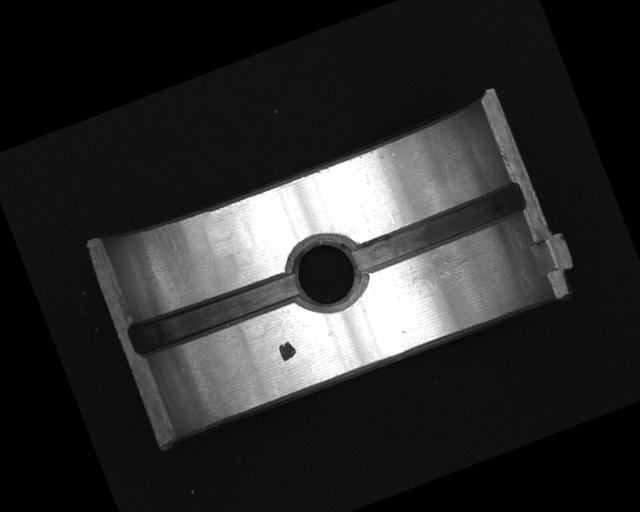blot: (276, 338, 298, 363)
gap: (345, 179, 531, 279), (125, 266, 300, 362)
hole: (277, 226, 372, 323)
nick: (363, 169, 396, 228)
scratch: (397, 228, 506, 301)
